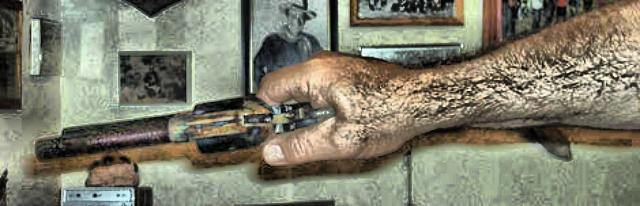pistol: (32, 83, 338, 170)
